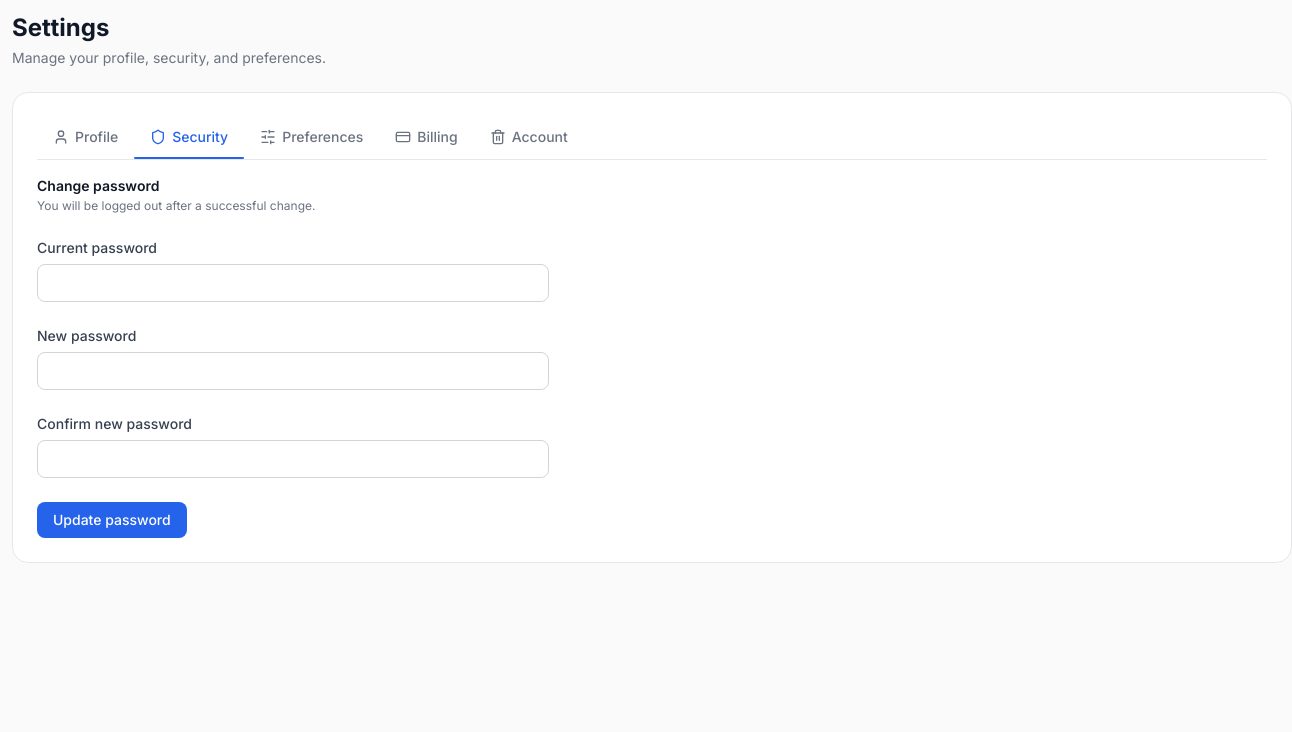
Scenario: SettingsPage › Security tab › shows validation errors when fields are empty on submit
Click the button "Update password". click: (112, 520)
box: [37,502,187,538]
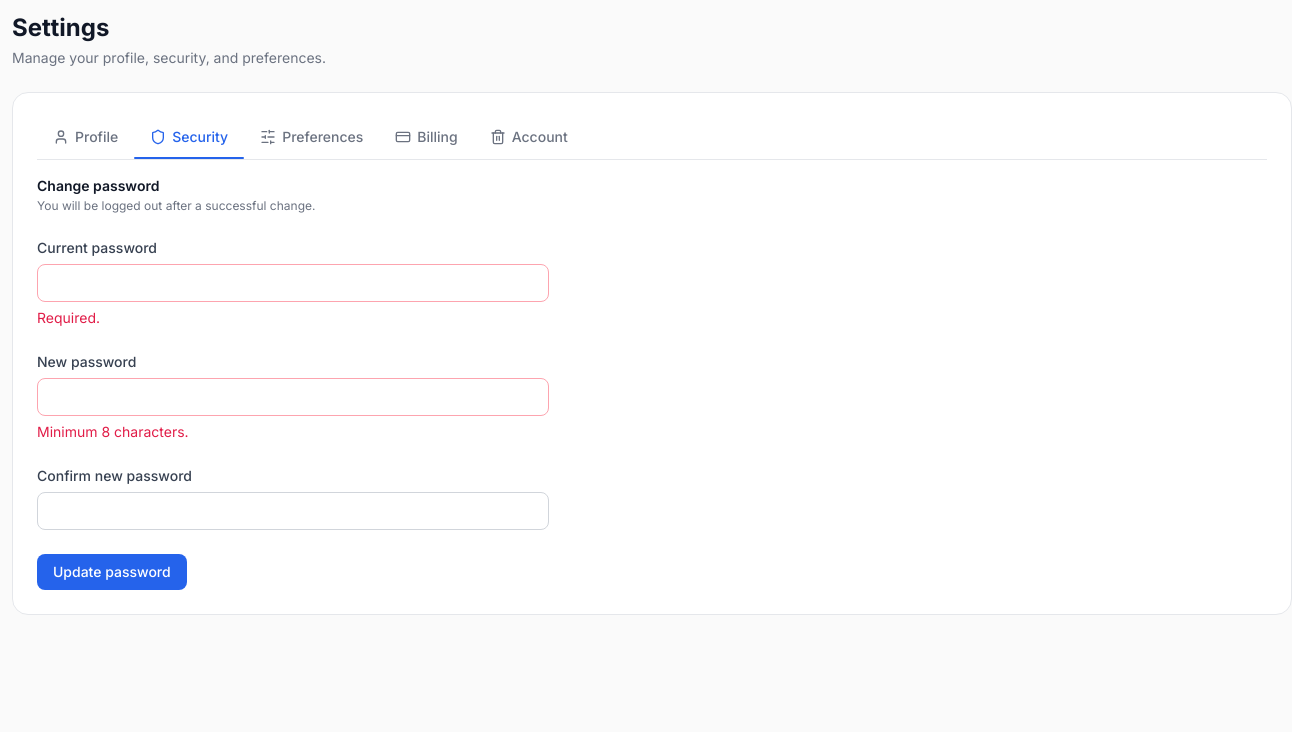
Expected: the text "Required." is shown, [37,309,100,326]
